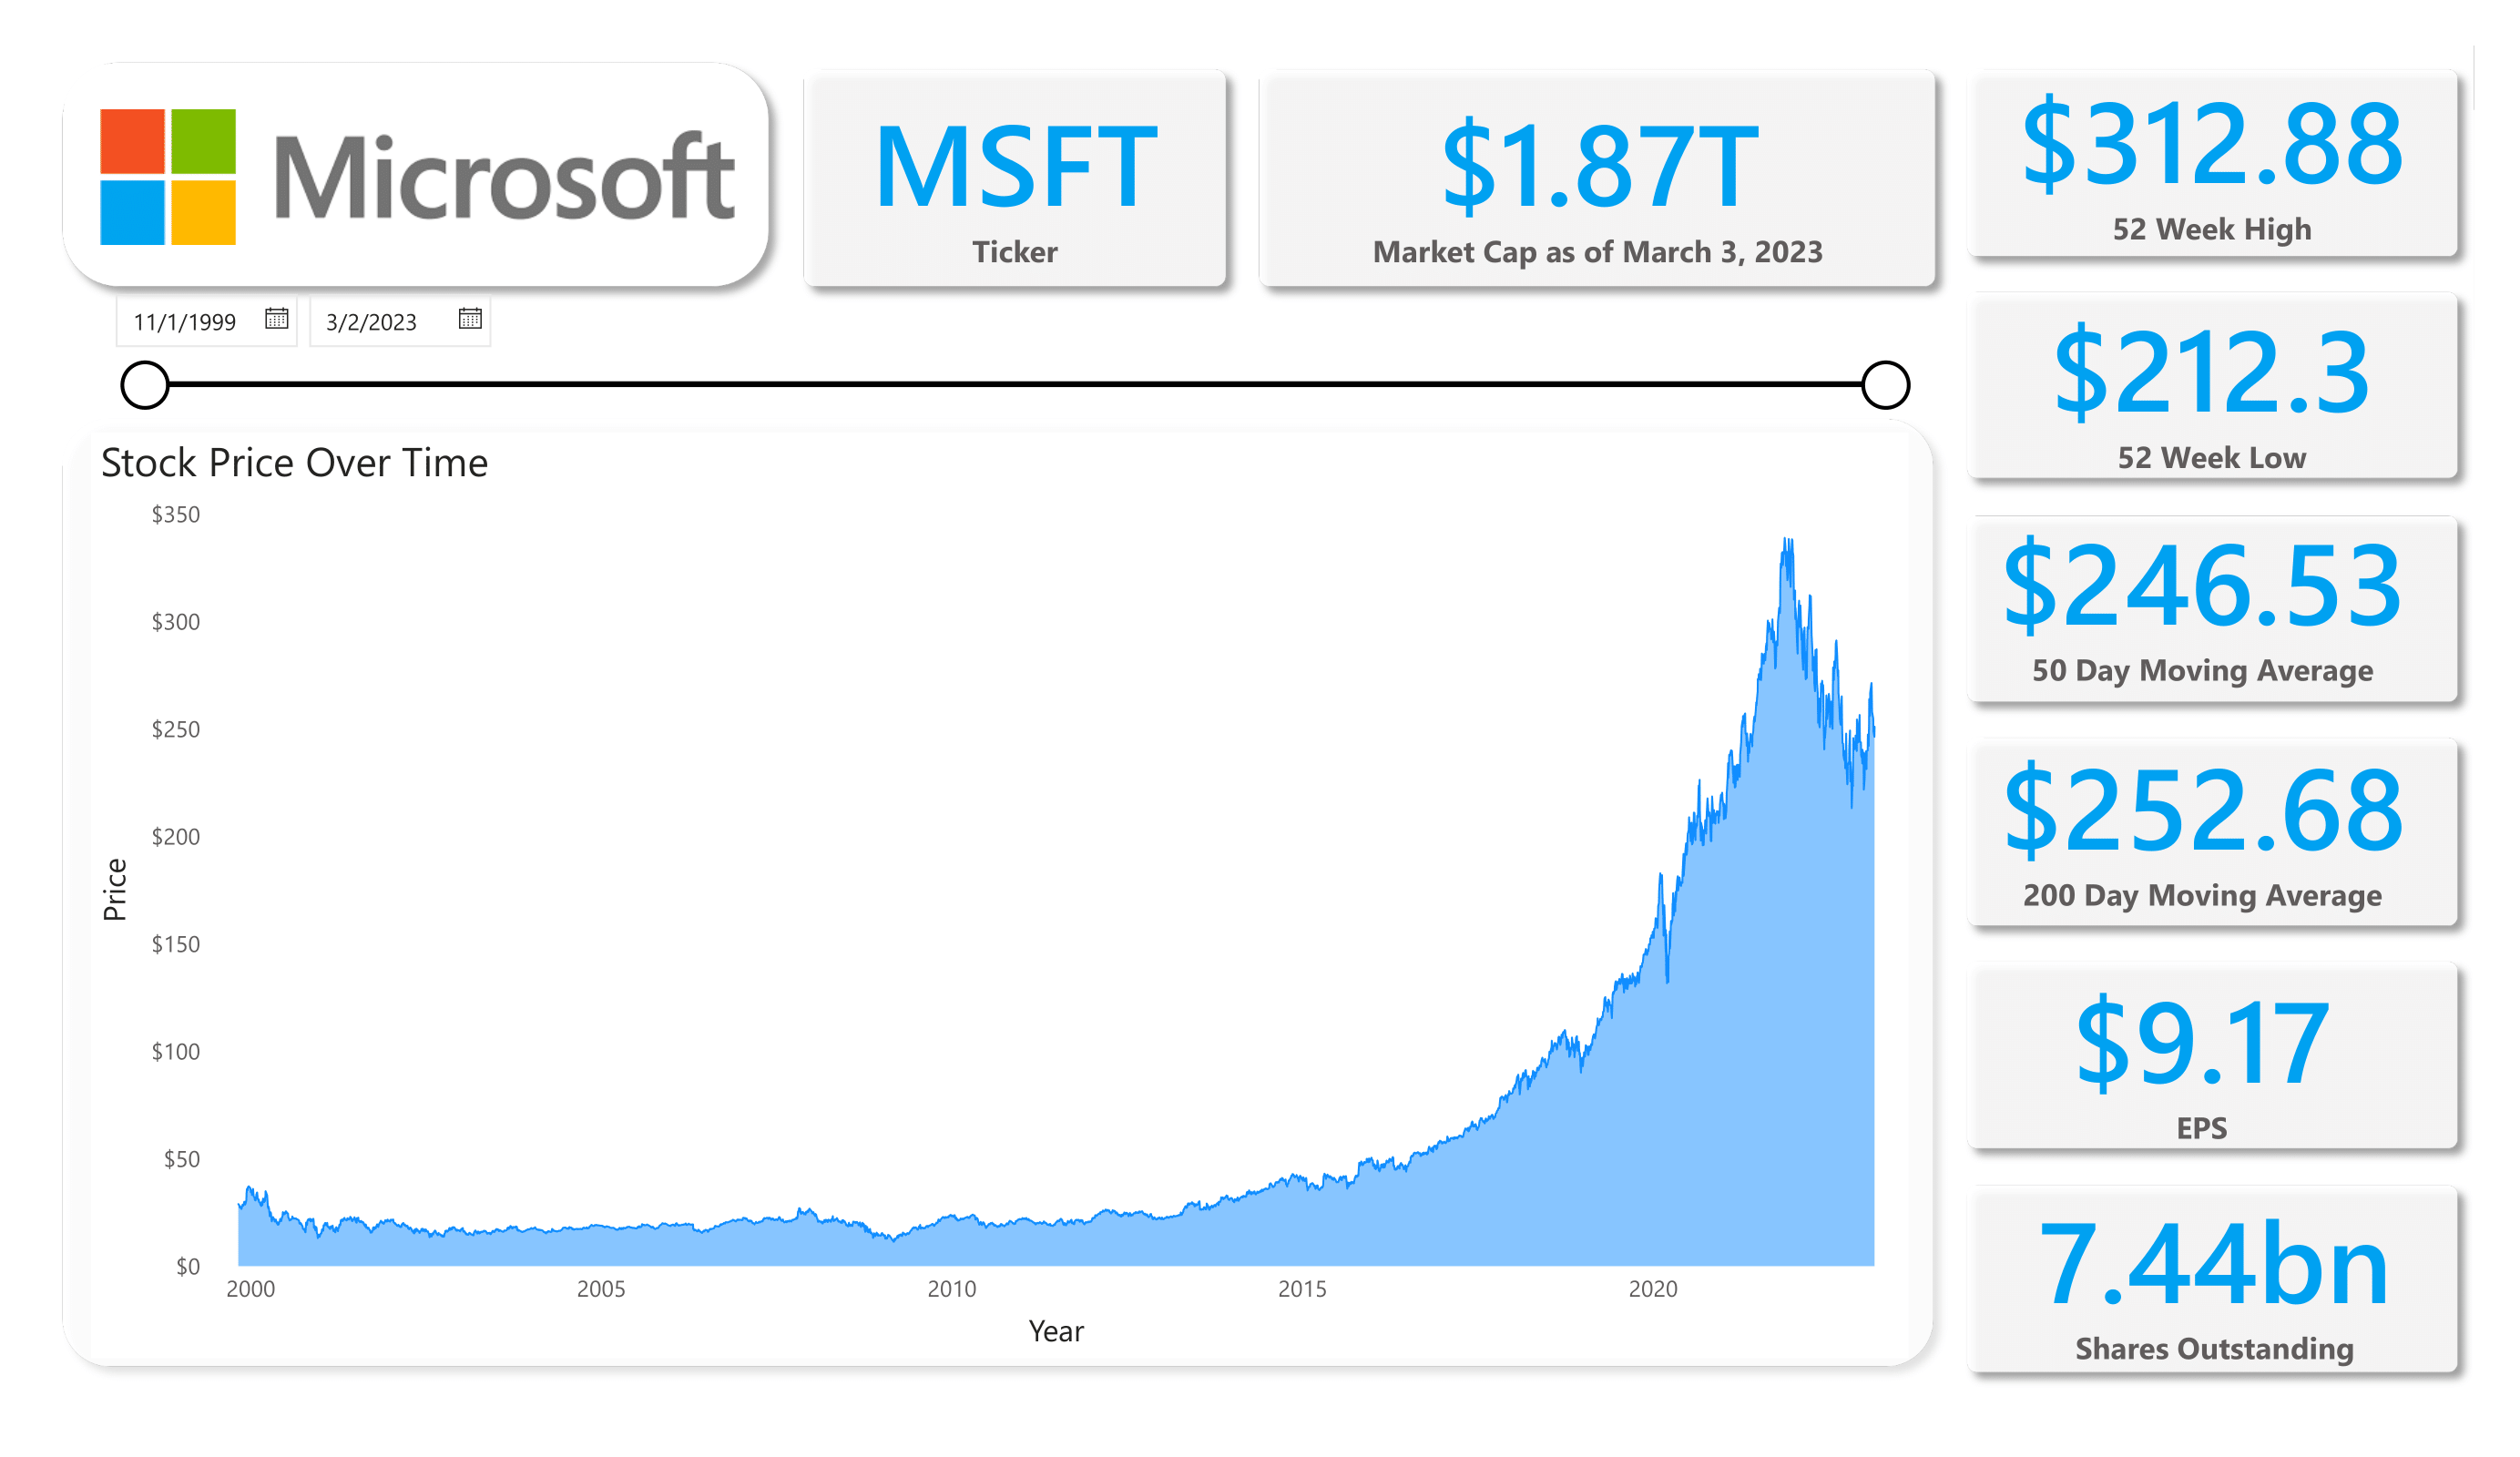

This screenshot's page, from the dashboard's own definition file:
{"tool":"powerbi","page":{"name":"Microsoft","canvas":[1280,720],"ordinal":0},"visuals":[{"type":"shape","box":[1003.6,3.7,276.3,116.1],"z":0},{"type":"shape","box":[1003.6,121.3,276.3,116.1],"z":1000},{"type":"shape","box":[1003.6,238.9,276.3,116.1],"z":2000},{"type":"shape","box":[1003.6,356.5,276.3,116.1],"z":3000},{"type":"shape","box":[1003.6,474.1,276.3,116.1],"z":4000},{"type":"shape","box":[1003.6,591.6,276.3,116.1],"z":5000},{"type":"shape","box":[0,135.8,1003.1,584.6],"z":6000},{"type":"shape","box":[0,0,389.9,135.7],"z":7000},{"type":"shape","box":[630.8,3.7,374.1,132],"z":8000},{"type":"image","box":[24.4,18.3,343.5,101.5],"z":9000},{"type":"shape","box":[391.2,3.7,239.6,132],"z":10000},{"type":"card","fields":{"Values":["Sum(microsoft.MarketCapitalization)"]},"box":[654,12.2,328.8,114.9],"z":11000},{"type":"card","fields":{"Values":["Min(microsoft.Symbol)"]},"box":[413.2,12.2,195.6,114.9],"z":12000},{"type":"card","fields":{"Values":["Sum(microsoft.52WeekHigh)"]},"box":[1026.8,0,229.8,114.9],"z":13000},{"type":"card","fields":{"Values":["Sum(microsoft.52WeekLow)"]},"box":[1027,119,230,118],"z":14000},{"type":"card","fields":{"Values":["Sum(microsoft.200DayMovingAverage)"]},"box":[1022,314,230,189],"z":15000},{"type":"areaChart","title":"Historical Analysis of Stock Prices from 2019 Onwards","fields":{"Category":["stock_data.date.Variation.Date Hierarchy.Year","stock_data.date.Variation.Date Hierarchy.Month","stock_data.date.Variation.Date Hierarchy.Day"],"Y":["Sum(stock_data.adjusted_close)"]},"box":[23.3,152.3,956.4,553],"z":17000},{"type":"card","fields":{"Values":["Sum(microsoft.EPS)"]},"box":[1062.3,473.1,149.1,117.4],"z":18000},{"type":"card","fields":{"Values":["Sum(microsoft.Shares Outstanding)"]},"box":[1030.5,590.4,226.1,114.9],"z":19000},{"type":"card","fields":{"Values":["Sum(microsoft.50DayMovingAverage)"]},"box":[1022,220,230,140],"z":21000}]}

Visuals, with their boxes in screenshot pixels (x1, y1, x2, y2):
shape: <bbox>1950, 53, 2474, 273</bbox>
shape: <bbox>1950, 276, 2474, 496</bbox>
shape: <bbox>1950, 499, 2474, 719</bbox>
shape: <bbox>1950, 722, 2474, 942</bbox>
shape: <bbox>1950, 945, 2474, 1166</bbox>
shape: <bbox>1950, 1168, 2474, 1388</bbox>
shape: <bbox>46, 303, 1949, 1411</bbox>
shape: <bbox>46, 46, 785, 303</bbox>
shape: <bbox>1242, 53, 1953, 303</bbox>
image: <bbox>92, 80, 744, 273</bbox>
shape: <bbox>788, 53, 1242, 303</bbox>
card - Sum(microsoft.MarketCapitalization): <bbox>1287, 68, 1911, 287</bbox>
card - Min(microsoft.Symbol): <bbox>830, 68, 1200, 287</bbox>
card - Sum(microsoft.52WeekHigh): <bbox>1994, 46, 2430, 263</bbox>
card - Sum(microsoft.52WeekLow): <bbox>1995, 271, 2431, 495</bbox>
card - Sum(microsoft.200DayMovingAverage): <bbox>1984, 641, 2422, 1000</bbox>
"Historical Analysis of Stock Prices from 2019 Onwards" areaChart: <bbox>90, 334, 1904, 1383</bbox>
card - Sum(microsoft.EPS): <bbox>2061, 943, 2344, 1166</bbox>
card - Sum(microsoft.Shares Outstanding): <bbox>2001, 1166, 2430, 1383</bbox>
card - Sum(microsoft.50DayMovingAverage): <bbox>1984, 463, 2422, 728</bbox>
